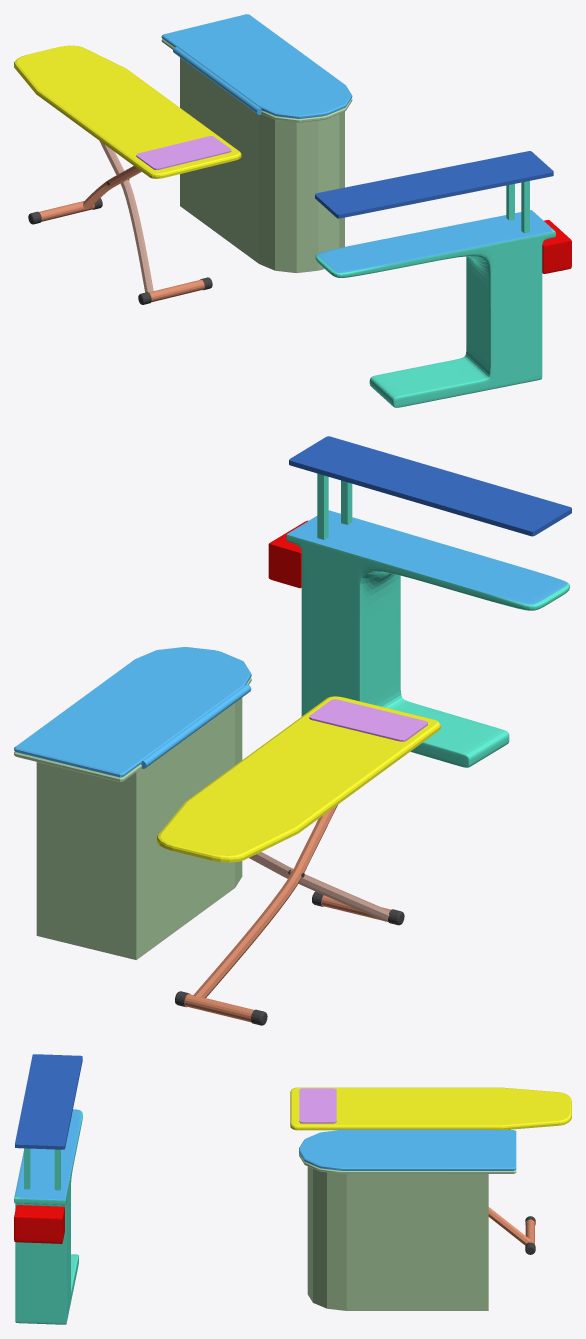
The model's file is Iron press stands 01.fbx.
3 views of the same model, one above another, from view 1: azimuth 30°, elevation 25°; view 2: azimuth 150°, elevation 25°; view 3: azimuth 270°, elevation 25° (orthographic). The views are drawn at different scales.
Parts seen in each view (by area): view 1: stand_03_p1, stand_02_p, iron_press_stand_01, stand_02_p1, stand_03_p; view 2: stand_02_p, stand_03_p1, iron_press_stand_01, stand_02_p1, stand_03_p; view 3: stand_02_p, iron_press_stand_01, stand_03_p1, stand_02_p1, stand_03_p.
Part boxes in pixels (box(x1,y1,x2,y2)): stand_03_p1: box(315, 210, 571, 407); stand_02_p: box(161, 39, 352, 272); iron_press_stand_01: box(14, 45, 241, 304); stand_02_p1: box(161, 14, 352, 118); stand_03_p: box(315, 151, 553, 233); stand_02_p: box(14, 677, 251, 959); stand_03_p1: box(268, 510, 569, 767); iron_press_stand_01: box(157, 696, 440, 1025); stand_02_p1: box(14, 647, 251, 777); stand_03_p: box(289, 436, 571, 539); stand_02_p: box(299, 1153, 516, 1310); iron_press_stand_01: box(290, 1087, 571, 1254); stand_03_p1: box(14, 1109, 82, 1324); stand_02_p1: box(299, 1129, 516, 1170); stand_03_p: box(15, 1054, 82, 1190).
Bounding box in the file's own units: 833 × 608 × 1671.
1 material, 1 textured.
